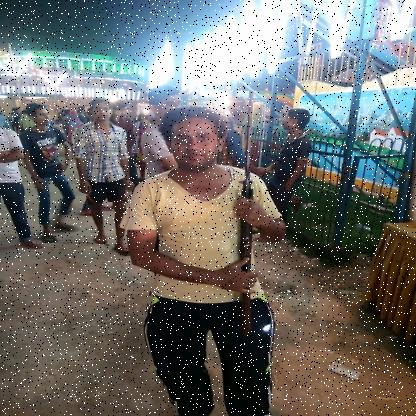rifle: (235, 88, 258, 340)
